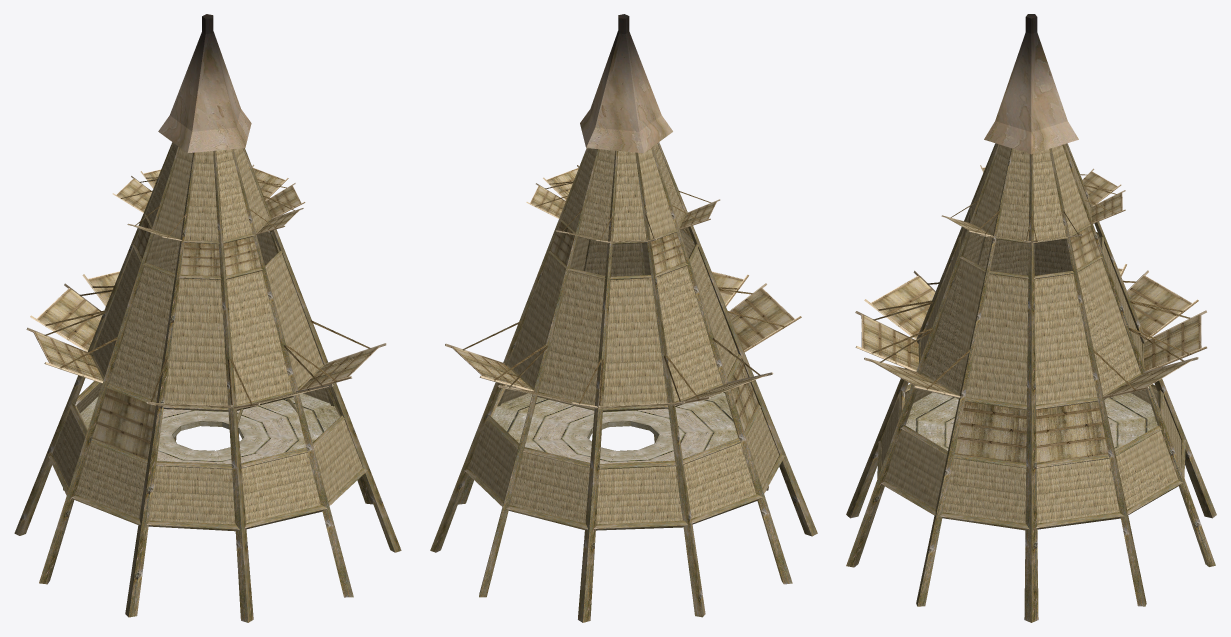
Rendered from thm_endr_lakevillage_lake_hut_l1.fbx.
The picture shows the model from 3 angles, left to right: view 1: azimuth 30°, elevation 25°; view 2: azimuth 150°, elevation 25°; view 3: azimuth 270°, elevation 25°; orthographic projection.
Visible parts, largest first — view 1: mesh_node; view 2: mesh_node; view 3: mesh_node.
Boxes of the visible parts, x1,y1,x2,y2 form: mesh_node: (14,14,401,622); mesh_node: (430,14,817,622); mesh_node: (846,14,1216,622).
Bounding box in the file's own units: 13.03 × 19.3 × 12.37.
